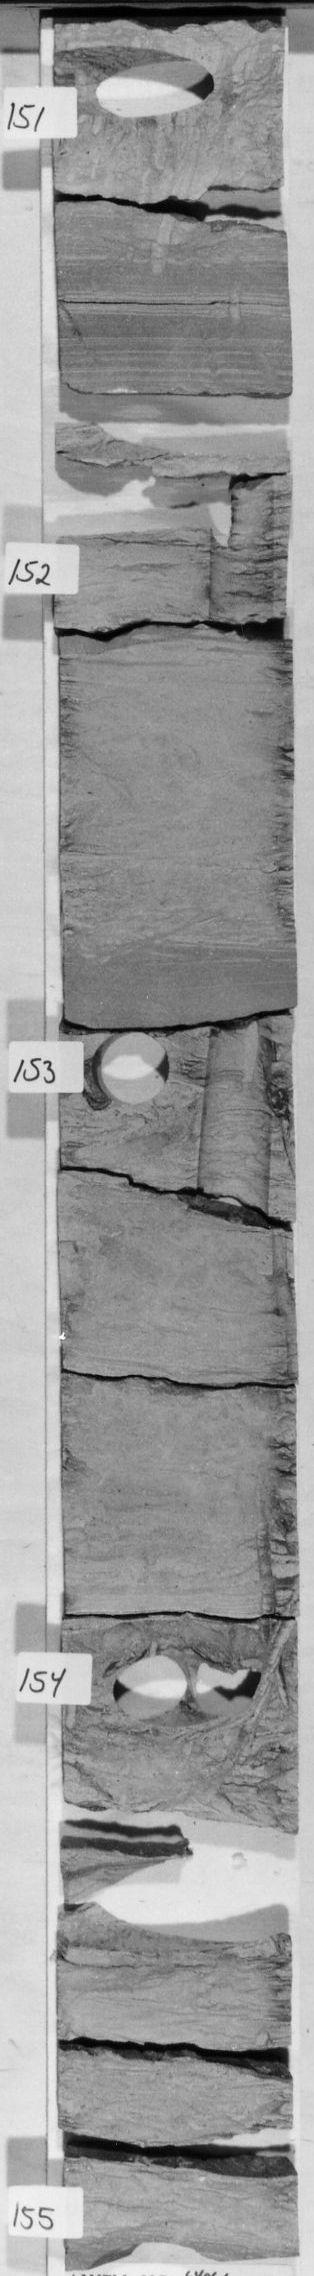hplug: (57, 44, 222, 123), (100, 1650, 189, 1726), (89, 1028, 172, 1108)
scal: (65, 1855, 291, 1965)
vplug: (198, 1015, 278, 1221), (196, 462, 278, 623)
